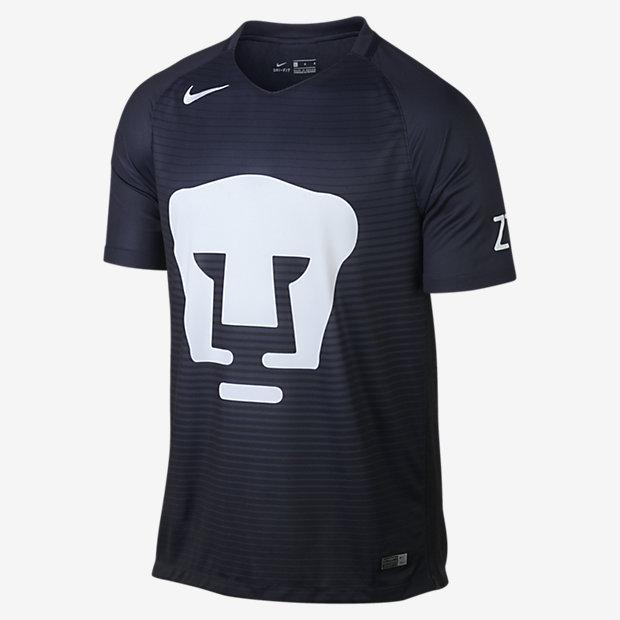teeshirt: (90, 7, 620, 599)
